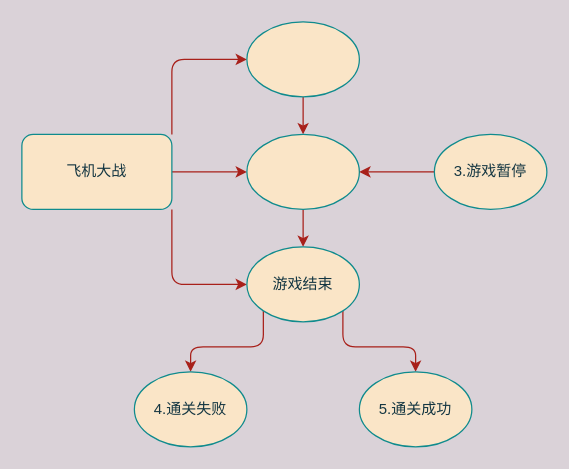
This 569x469 diagram has some shape labels left out. The shapes that lost their labels are listed below. From the top down, each one's centre as x and y in pixels, then its label:
(x=302, y=59): 1.游戏未开始
(x=302, y=171): 2.游戏进行中
